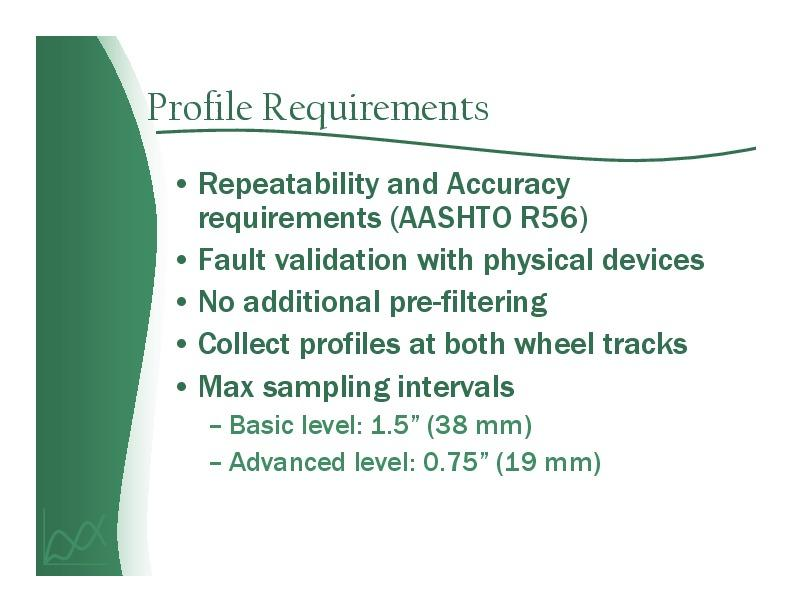paragraph: (169, 162, 733, 497)
title: (152, 71, 518, 156)
